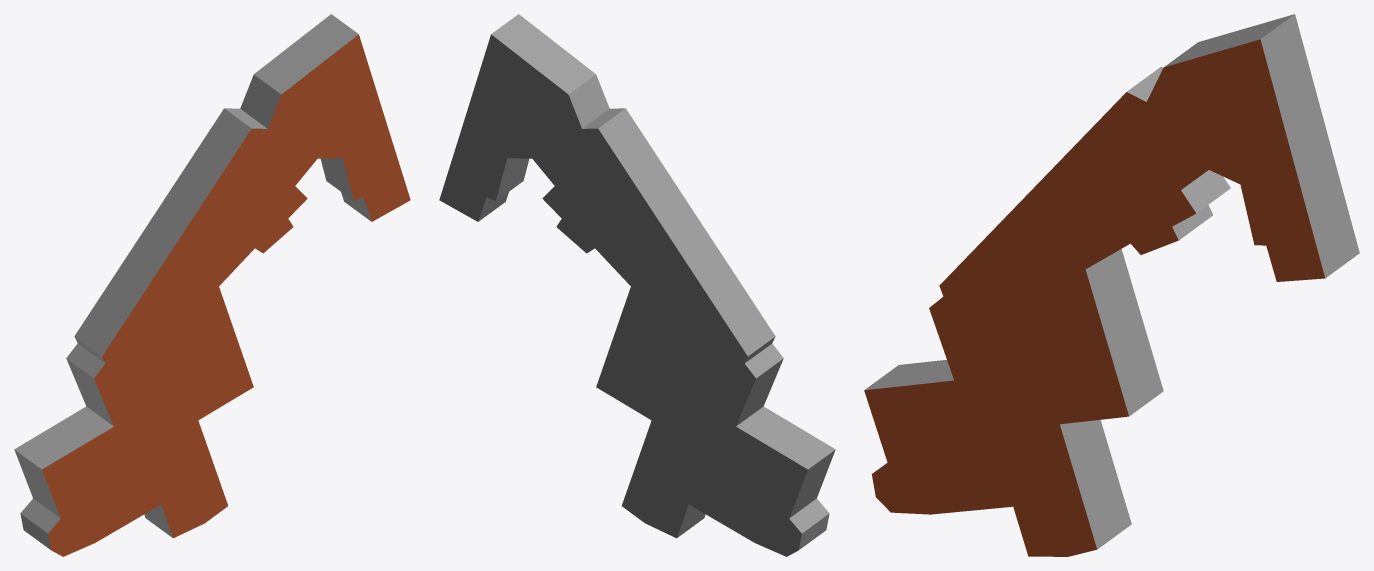
Rendered from construction_7095_assumed_A_Casa_h6m.obj.
3 views of the same model, side by side, from view 1: azimuth 30°, elevation 25°; view 2: azimuth 150°, elevation 25°; view 3: azimuth 330°, elevation 25° (orthographic). The views are drawn at different scales.
Visible parts, largest first — view 1: construction_7095_assumed_A_Casa; view 2: construction_7095_assumed_A_Casa; view 3: construction_7095_assumed_A_Casa.
Boxes of the visible parts, <box> form: construction_7095_assumed_A_Casa: <box>14,14,410,556</box>; construction_7095_assumed_A_Casa: <box>439,14,835,556</box>; construction_7095_assumed_A_Casa: <box>864,14,1359,556</box>.
Bounding box in the file's own units: 46.19 × 54.92 × 6.
